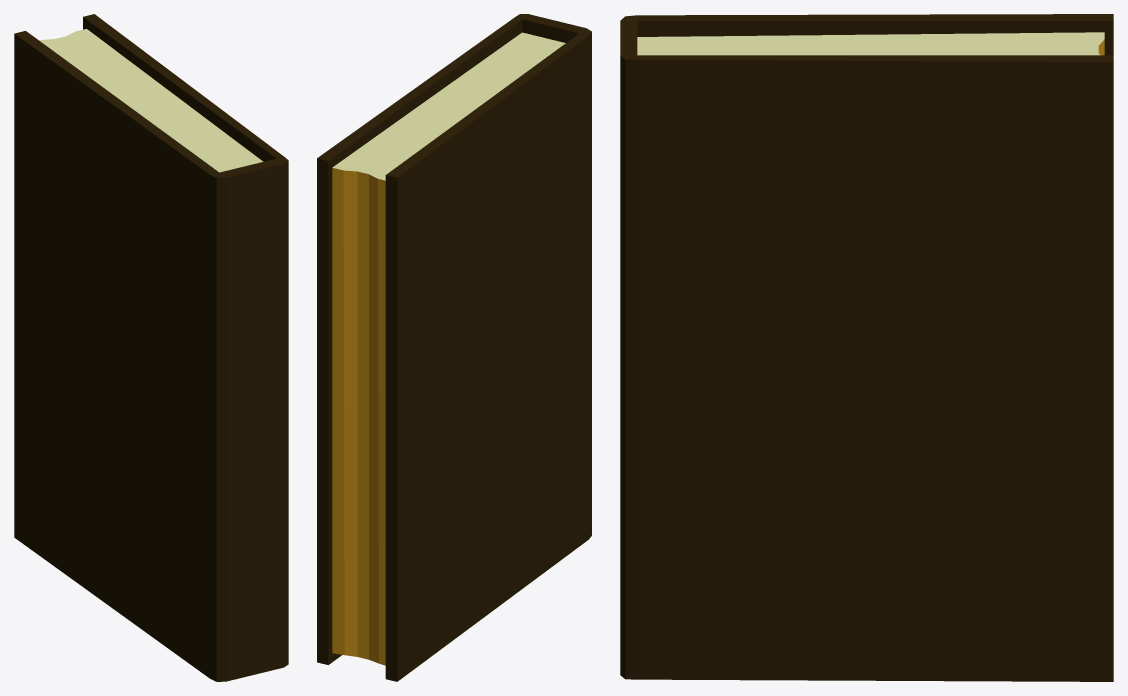
The model's file is libro_estante_1_002.fbx.
3 renders of one model, left to right at view 1: azimuth 30°, elevation 25°; view 2: azimuth 150°, elevation 25°; view 3: azimuth 270°, elevation 25°, orthographic. The views are drawn at different scales.
Visible parts, largest first — view 1: libro_estante_1.002; view 2: libro_estante_1.002; view 3: libro_estante_1.002.
Part boxes in pixels (x1,y1,x2,y2): libro_estante_1.002: [14, 14, 288, 681]; libro_estante_1.002: [317, 14, 591, 681]; libro_estante_1.002: [620, 14, 1113, 681].
Size of the model in its own units: 8.71 by 52.28 by 37.72.
